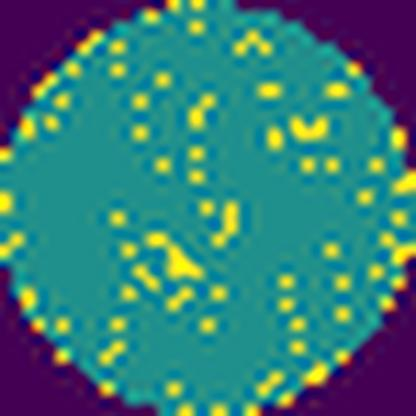Loc: (148, 231, 208, 282)
